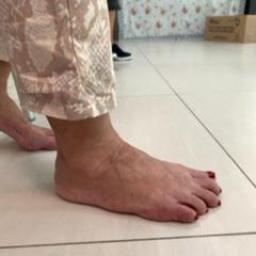Lateral View -Right Foot-: (29, 84, 246, 246)
